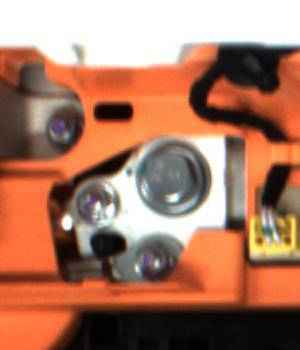nut_b: (132, 135, 226, 220)
